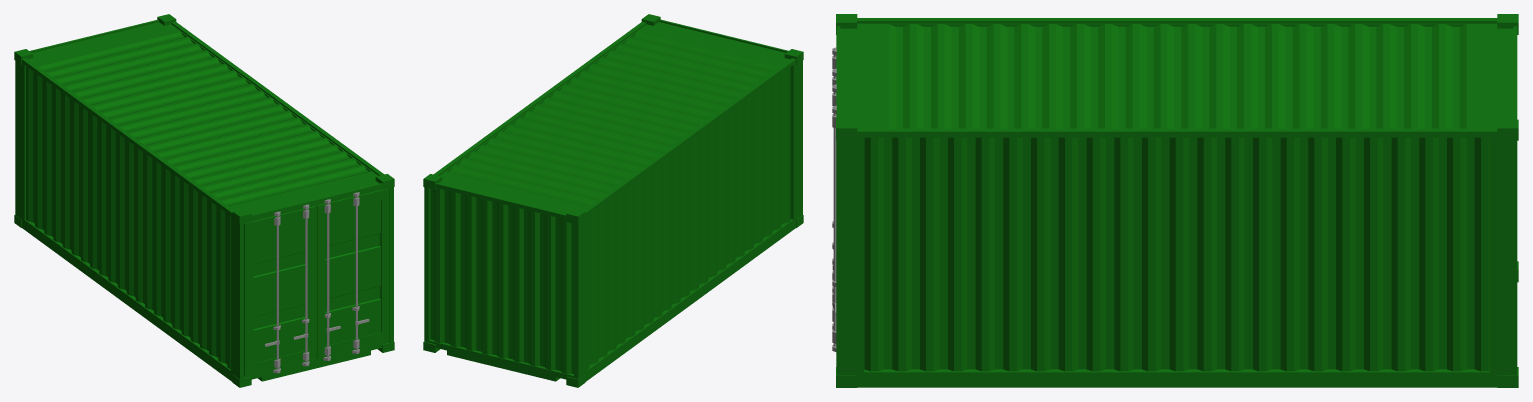
The model's file is container_green.glb.
The picture shows the model from 3 angles, left to right: view 1: azimuth 30°, elevation 25°; view 2: azimuth 150°, elevation 25°; view 3: azimuth 270°, elevation 25°; orthographic projection. The views are drawn at different scales.
Parts seen in each view (by area): view 1: Object_5, Object_4; view 2: Object_5; view 3: Object_5, Object_4.
Part boxes in pixels (bbox=[...]): Object_5: bbox=[14, 14, 394, 387]; Object_4: bbox=[265, 192, 369, 373]; Object_5: bbox=[423, 14, 803, 387]; Object_5: bbox=[836, 14, 1518, 387]; Object_4: bbox=[832, 47, 836, 351].
Size of the model in its own units: 1.28 by 1.35 by 3.24.
